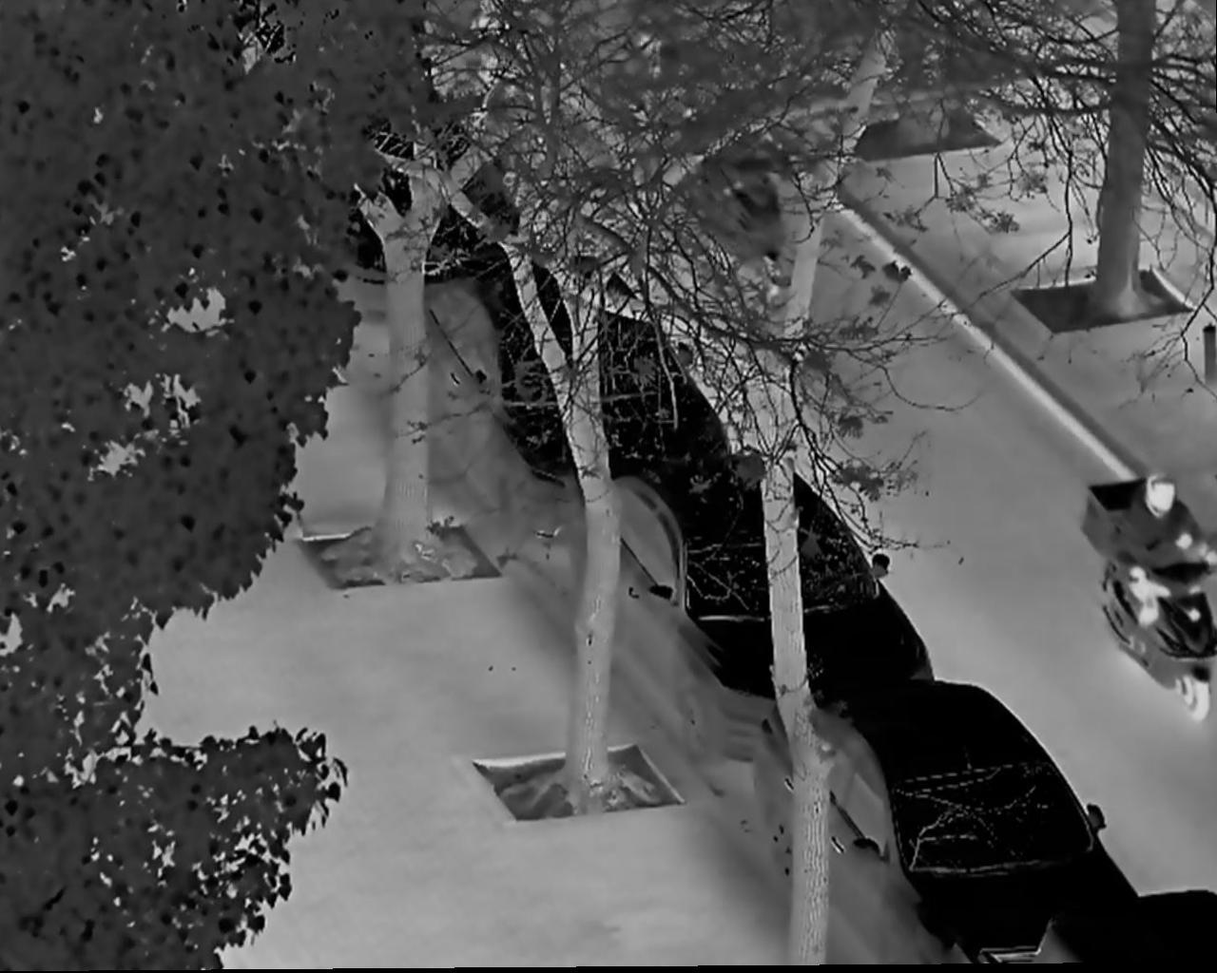person: (1122, 468, 1203, 658)
